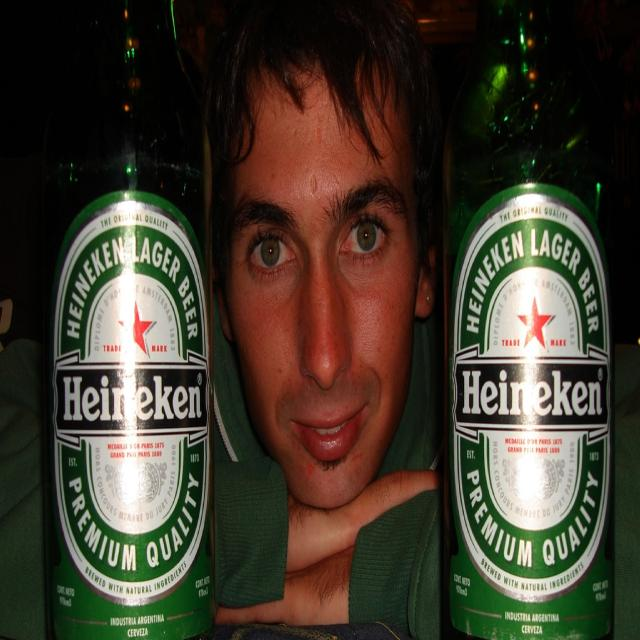heineken: (453, 193, 612, 604), (55, 203, 210, 608)
